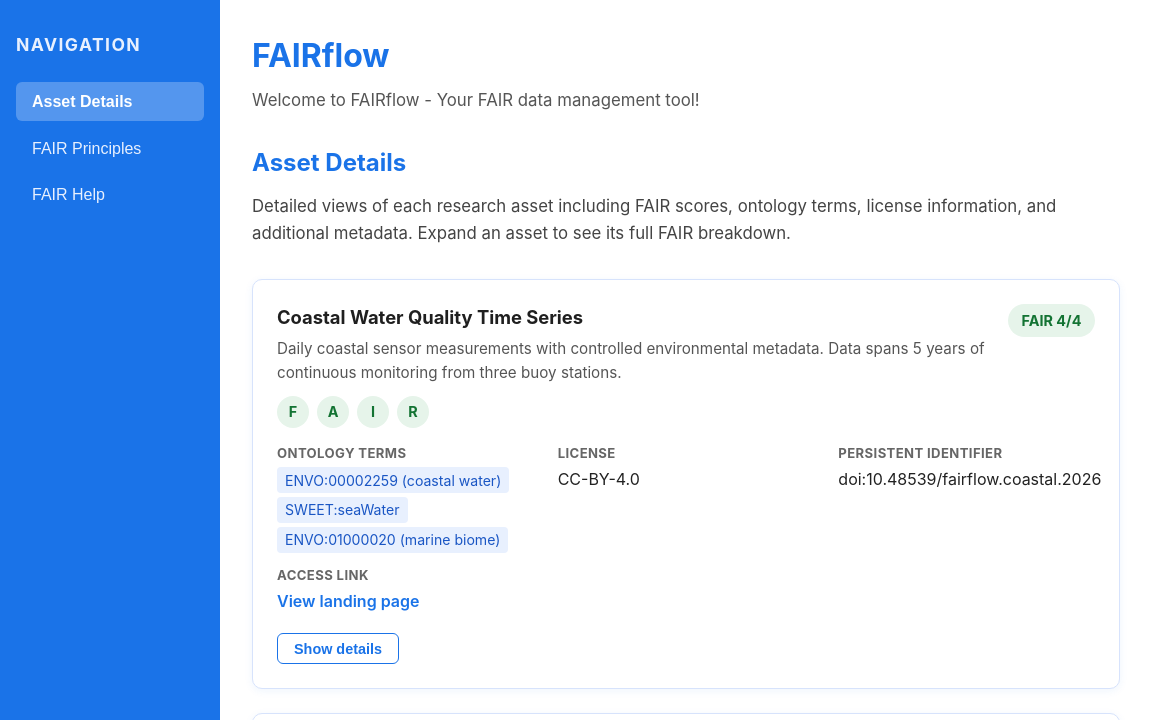
Test case: App › navigates to FAIR Help page
The image size is (1152, 720).
What coordinates should you click on to do the following:
click the button "FAIR Help"
I would click on:
 (110, 195)
Its box is [16,176,204,215].
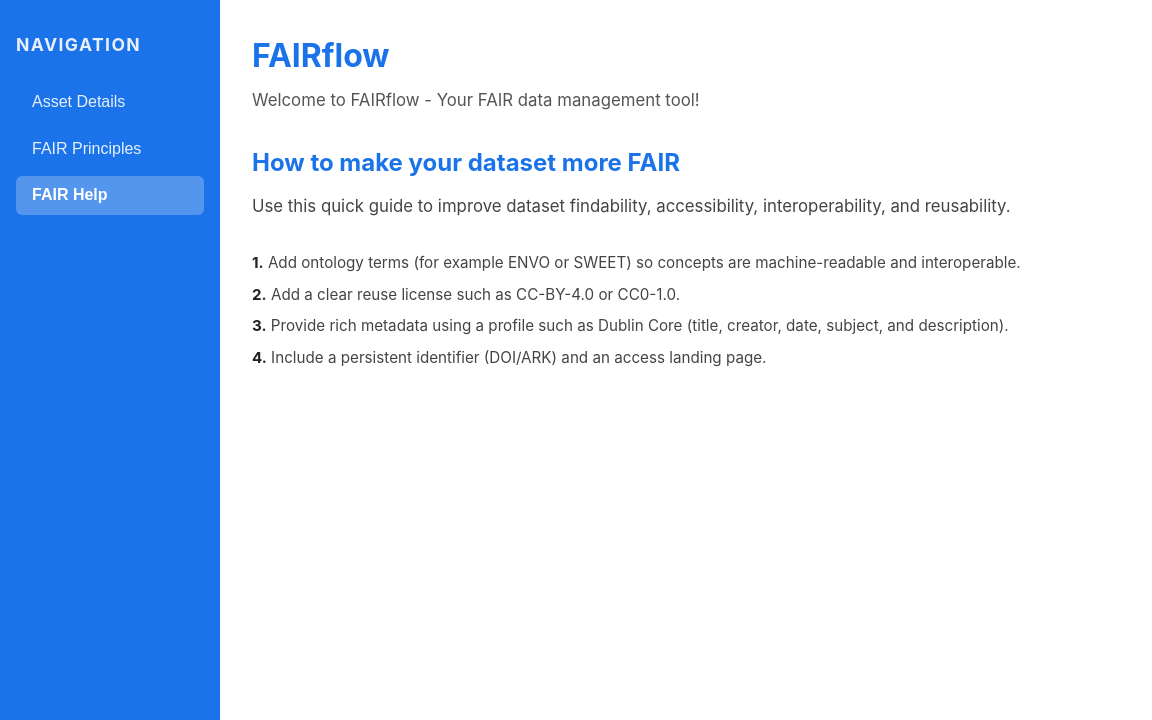
Expected: the heading "How to make your dataset more FAIR" is shown, [252,148,680,177]
Expected: the list item "Dublin Core" is shown, [267,316,1009,335]
